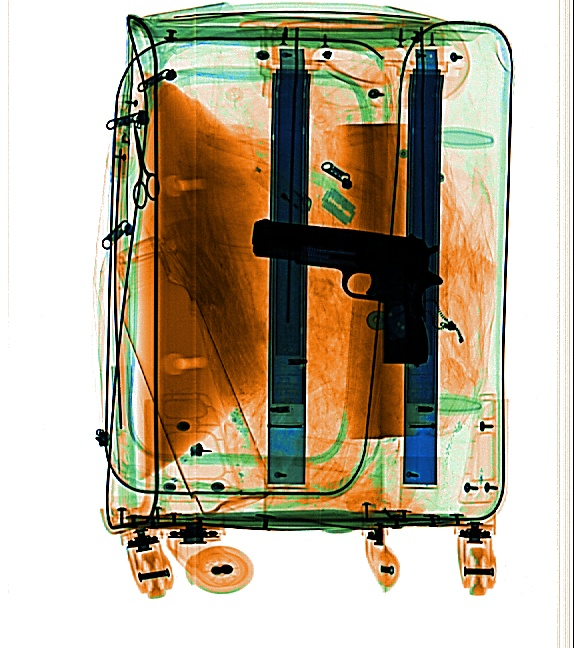bottle: (117, 237, 274, 517)
gun: (249, 215, 444, 368)
lighter: (247, 158, 315, 217)
razor_blade: (319, 184, 360, 229)
